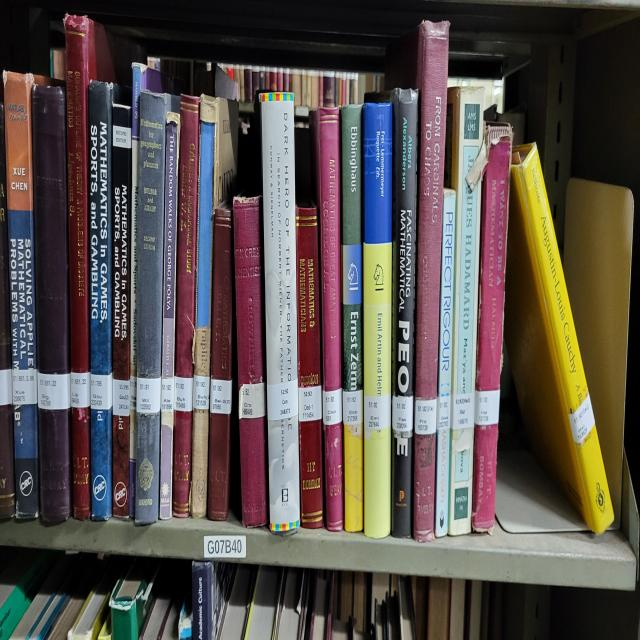Book: (505, 143, 614, 533), (386, 22, 449, 541), (64, 14, 115, 519), (4, 73, 50, 517), (466, 122, 512, 533), (260, 92, 300, 533), (445, 87, 484, 536), (32, 84, 71, 525), (385, 87, 419, 538), (311, 106, 344, 530), (135, 92, 166, 525), (89, 81, 119, 519), (172, 95, 200, 517), (190, 97, 218, 517), (234, 198, 268, 528), (340, 103, 364, 533), (296, 203, 322, 528), (160, 111, 180, 519), (208, 206, 234, 519), (364, 244, 391, 538), (112, 103, 131, 519), (435, 189, 456, 536)
Label: (569, 392, 595, 444), (38, 371, 71, 411), (268, 379, 299, 419), (364, 395, 391, 438), (12, 368, 38, 406), (239, 381, 265, 419), (136, 376, 161, 414), (451, 392, 475, 430), (475, 390, 500, 425), (299, 384, 322, 422), (90, 373, 112, 411), (392, 395, 414, 433), (415, 398, 436, 436), (210, 379, 232, 414), (70, 371, 90, 409), (322, 390, 342, 425), (342, 390, 362, 425), (112, 379, 130, 417), (174, 376, 192, 411), (192, 376, 210, 411), (161, 376, 174, 411), (438, 395, 451, 430)
